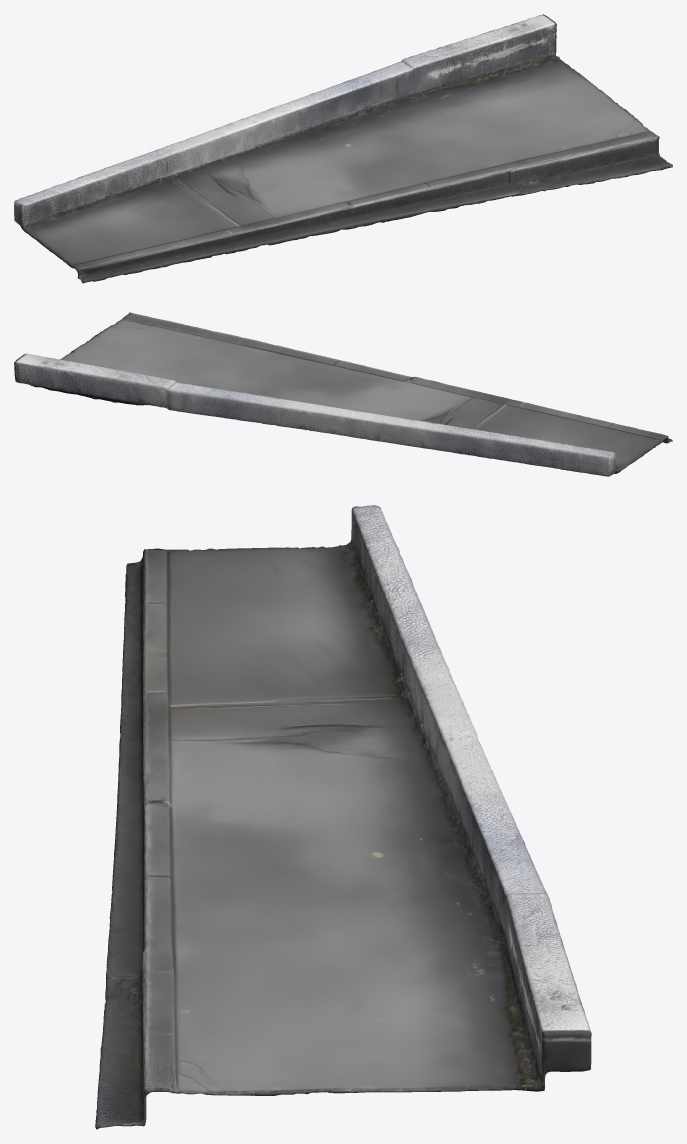
The model's file is crack_2.glb.
3 renders of one model, top to bottom at view 1: azimuth 30°, elevation 25°; view 2: azimuth 150°, elevation 25°; view 3: azimuth 270°, elevation 25°, orthographic. The views are drawn at different scales.
Parts seen in each view (by area): view 1: Mesh1.0; view 2: Mesh1.0; view 3: Mesh1.0.
Part boxes in pixels (<box>): Mesh1.0: <box>14,14,672,283</box>; Mesh1.0: <box>14,312,672,476</box>; Mesh1.0: <box>95,505,591,1129</box>.
Bounding box in the file's own units: 1.91 × 0.1736 × 0.755.
1 material, 1 textured.
